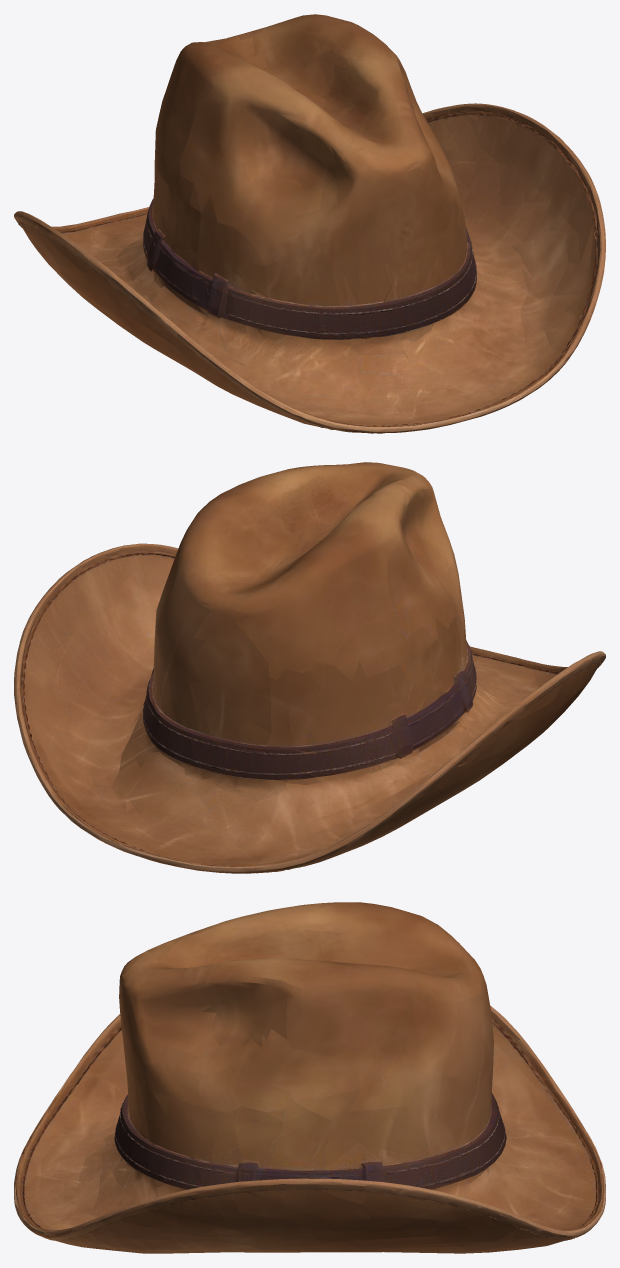
The model's file is mk_cowboy_u1.glb.
3 views of the same model, one above another, from view 1: azimuth 30°, elevation 25°; view 2: azimuth 150°, elevation 25°; view 3: azimuth 270°, elevation 25° (orthographic).
Bounding box in the file's own units: 1.78 × 0.9332 × 1.9.
Materials: 1 (1 with a texture image).
